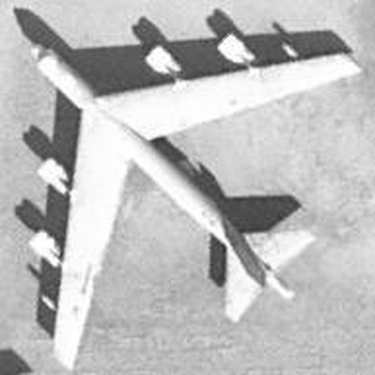airplane: (3, 2, 367, 364)
